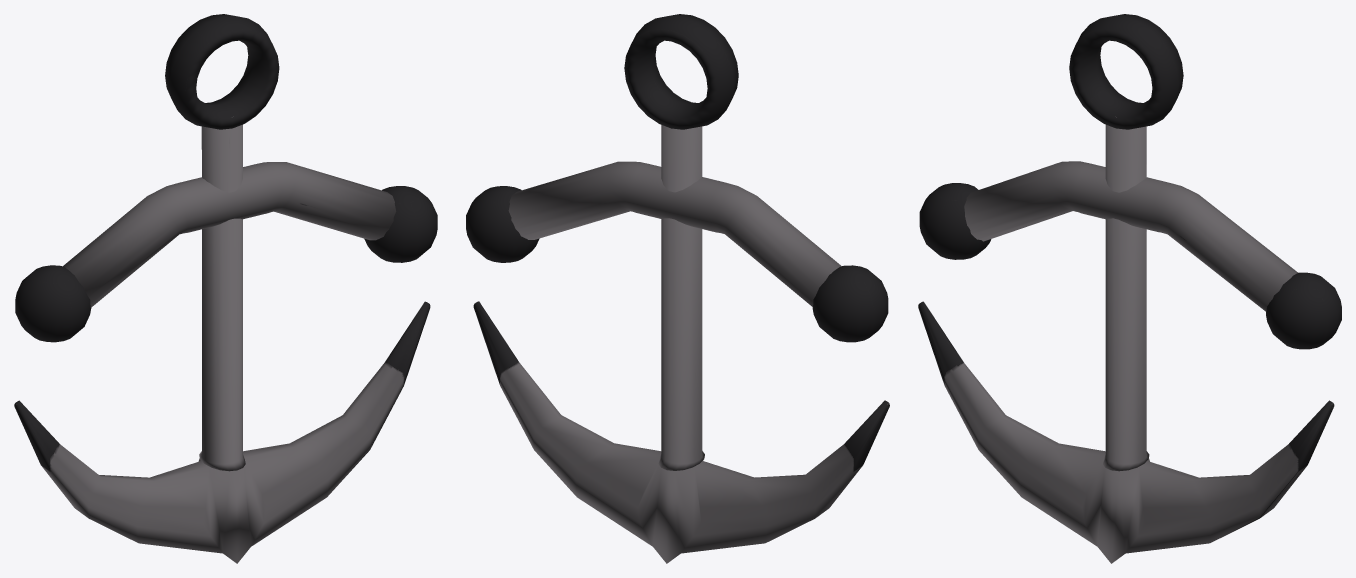
File: anchorScaled.fbx
The picture shows the model from 3 angles, left to right: view 1: azimuth 30°, elevation 25°; view 2: azimuth 150°, elevation 25°; view 3: azimuth 330°, elevation 25°; orthographic projection.
Parts seen in each view (by area): view 1: Torus.012; view 2: Torus.012; view 3: Torus.012.
Boxes of the visible parts, x1,y1,x2,y2 form: Torus.012: (14, 14, 437, 563); Torus.012: (466, 14, 889, 563); Torus.012: (918, 14, 1341, 563).
Size of the model in its own units: 100 by 123 by 15.57.
